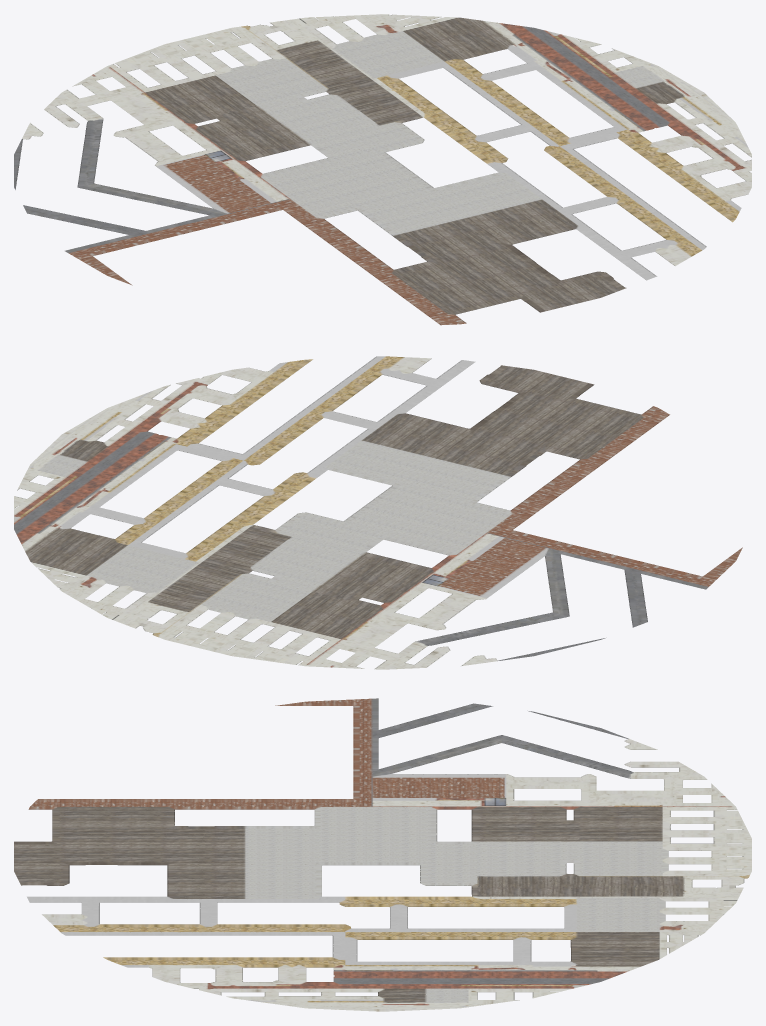
The model's file is map.fbx.
3 views of the same model, one above another, from view 1: azimuth 30°, elevation 25°; view 2: azimuth 150°, elevation 25°; view 3: azimuth 270°, elevation 25° (orthographic).
Visible parts, largest first — view 1: pCylinder3; view 2: pCylinder3; view 3: pCylinder3.
Boxes of the visible parts, bbox=[...] form: pCylinder3: bbox=[14, 14, 751, 325]; pCylinder3: bbox=[14, 356, 742, 669]; pCylinder3: bbox=[14, 698, 751, 1011].
Bounding box in the file's own units: 99.79 × 0 × 99.25.
